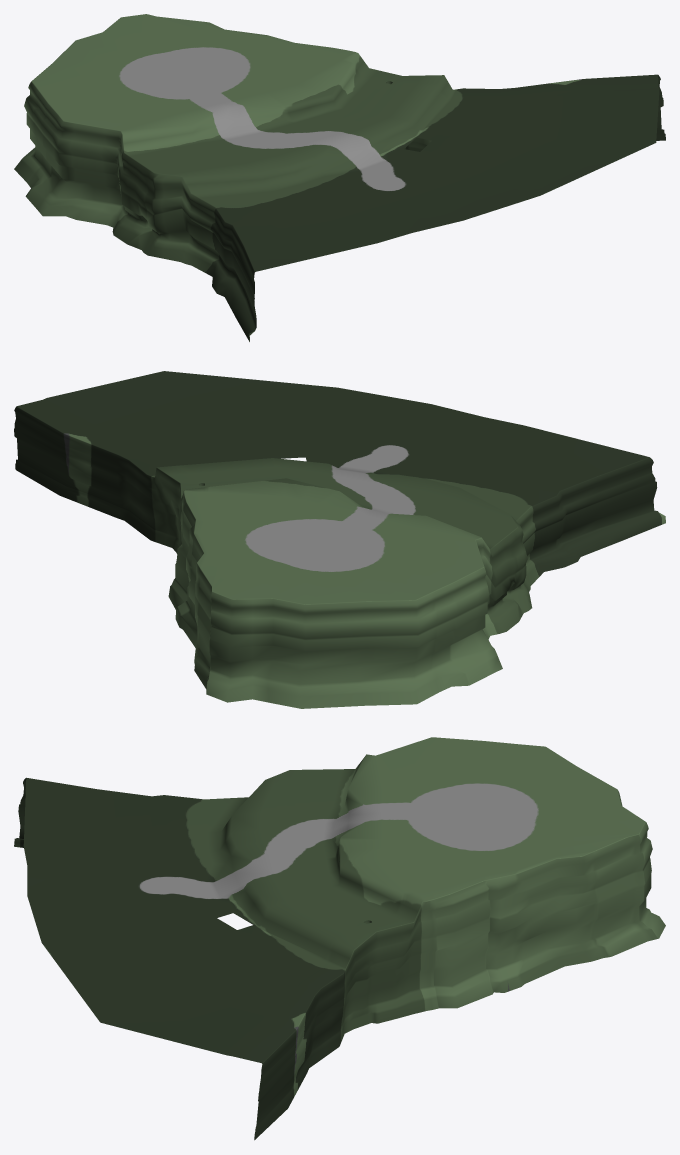
The model's file is Peninsula04.fbx.
3 renders of one model, top to bottom at view 1: azimuth 30°, elevation 25°; view 2: azimuth 150°, elevation 25°; view 3: azimuth 270°, elevation 25°, orthographic. The views are drawn at different scales.
Visible parts, largest first — view 1: PeniBasecliff2; view 2: PeniBasecliff2; view 3: PeniBasecliff2.
Boxes of the visible parts, bbox=[...] form: PeniBasecliff2: bbox=[14, 14, 665, 341]; PeniBasecliff2: bbox=[14, 371, 665, 708]; PeniBasecliff2: bbox=[14, 737, 665, 1140].
Bounding box in the file's own units: 5971 × 965 × 5331.
